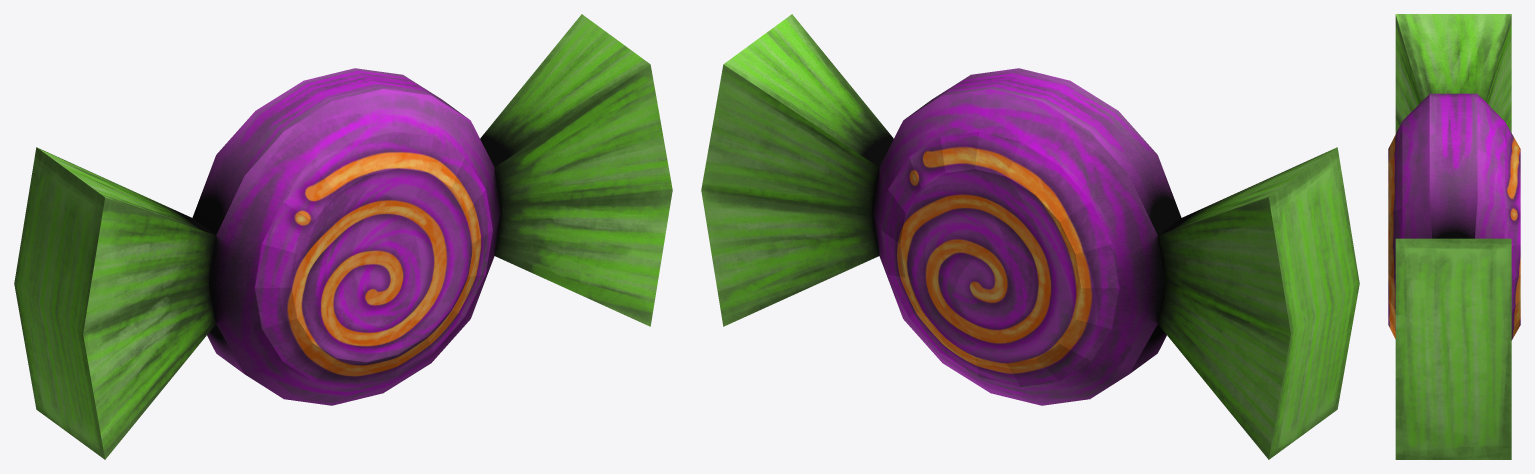
The model's file is Candy.FBX.
3 views of the same model, side by side, from view 1: azimuth 30°, elevation 25°; view 2: azimuth 150°, elevation 25°; view 3: azimuth 270°, elevation 25° (orthographic). The views are drawn at different scales.
Visible parts, largest first — view 1: Cylinder001; view 2: Cylinder001; view 3: Cylinder001.
Part boxes in pixels (x1,y1,x2,y2): Cylinder001: (14, 14, 672, 459); Cylinder001: (701, 14, 1359, 459); Cylinder001: (1388, 14, 1520, 459).
Bounding box in the file's own units: 83.88 × 41.36 × 19.36.
Materials: 1 (1 with a texture image).
